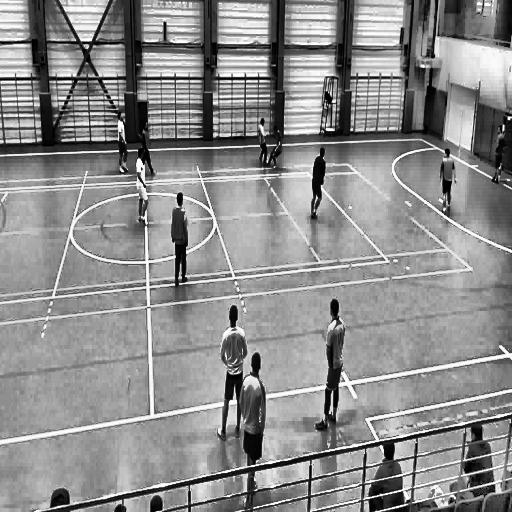ball: (265, 158, 270, 168)
player: (314, 292, 346, 433), (238, 351, 265, 510), (218, 302, 242, 444), (171, 192, 193, 289), (438, 144, 458, 219), (311, 145, 327, 227), (136, 146, 150, 232), (139, 119, 159, 178), (490, 124, 506, 186), (116, 109, 130, 177), (268, 124, 283, 173), (256, 115, 269, 167)
